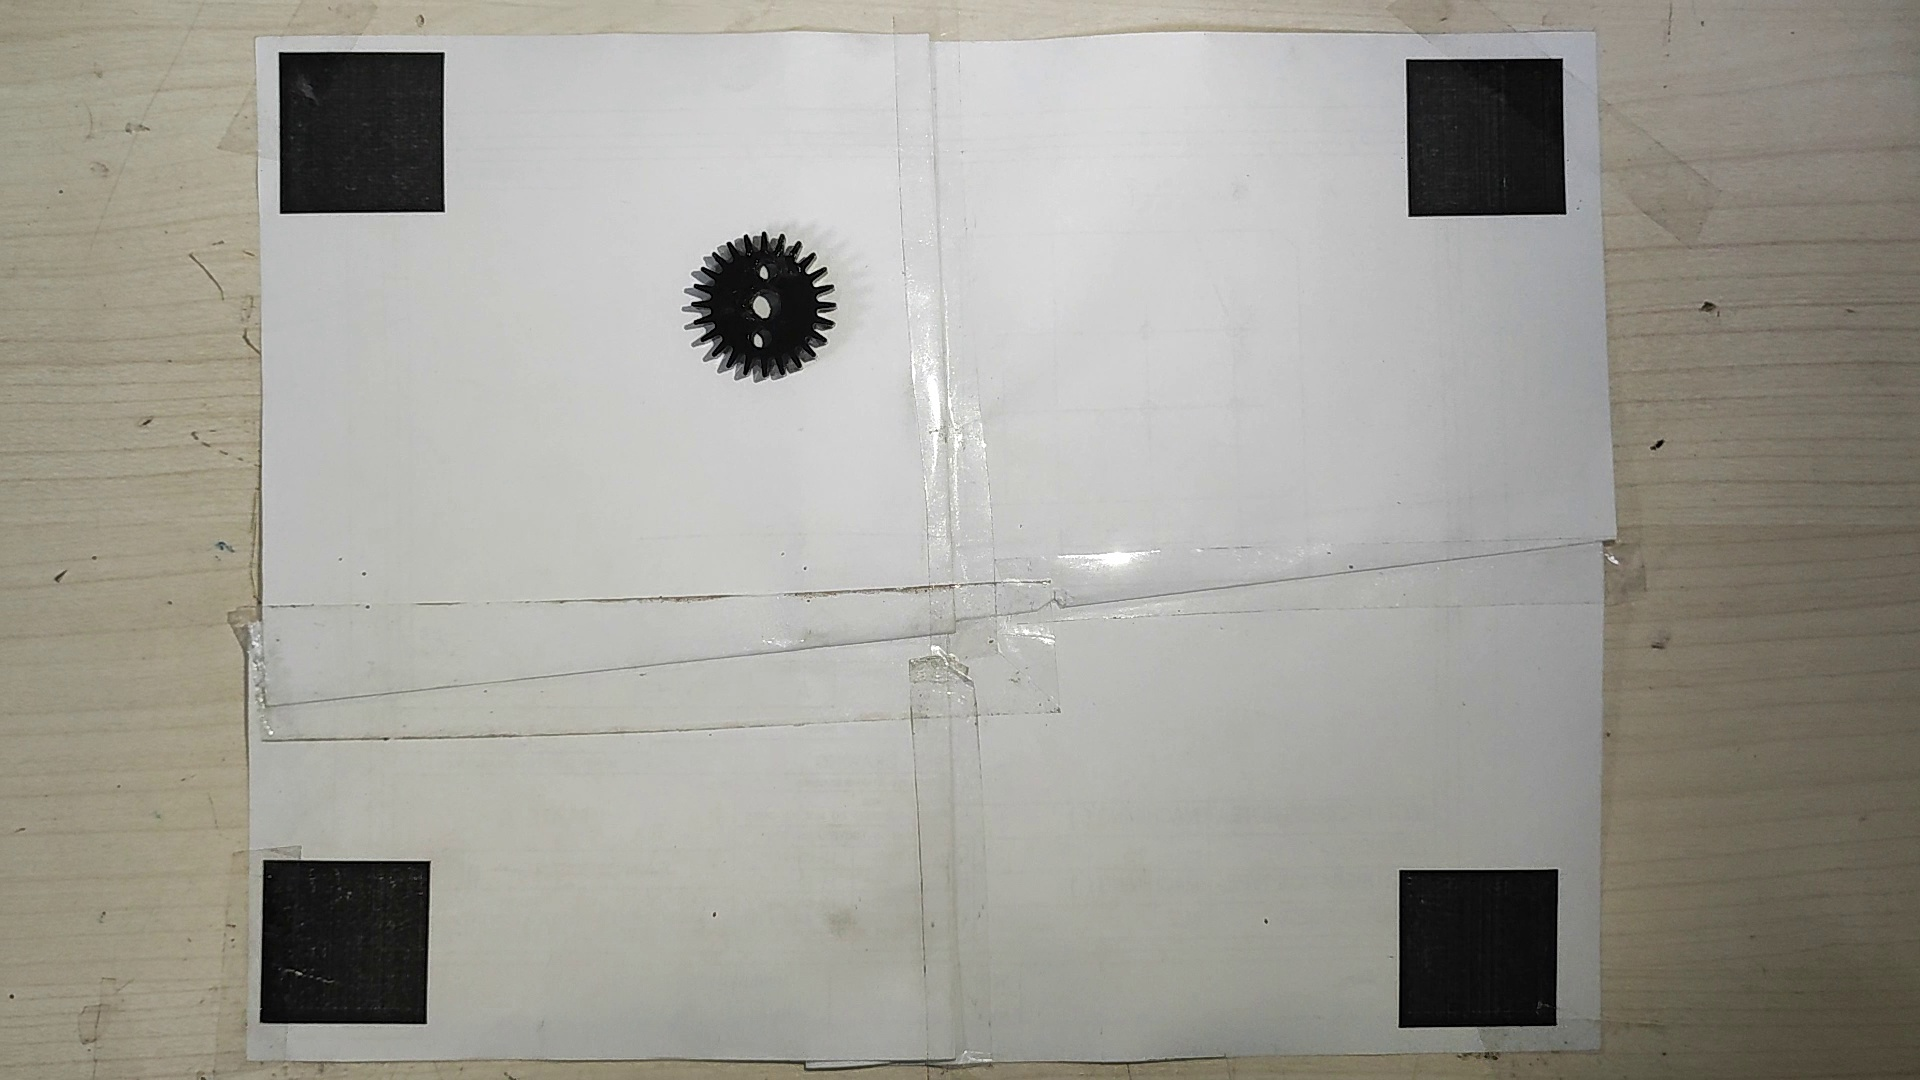Gear: (675, 228, 840, 382)
